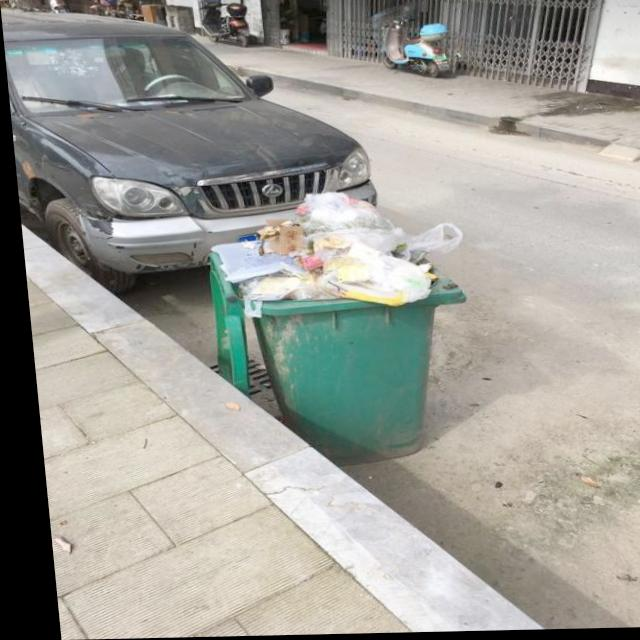overflow: (198, 190, 471, 468)
